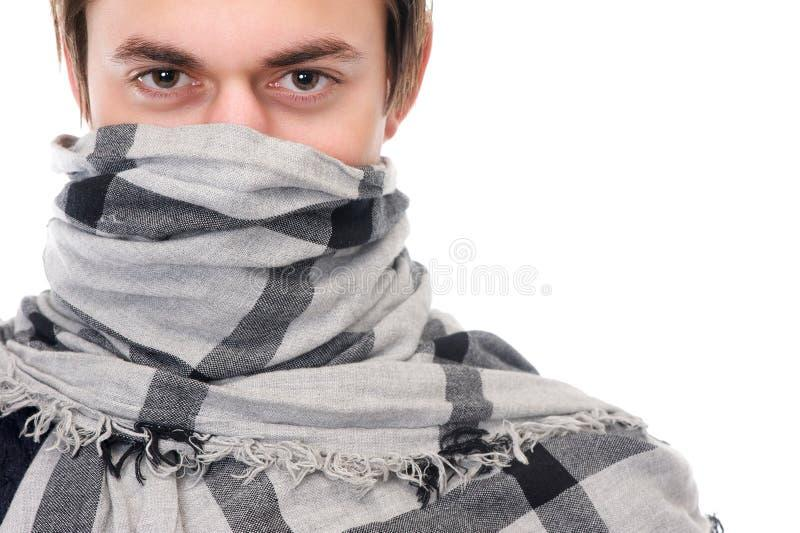scarf-kerchief: (14, 114, 686, 489)
